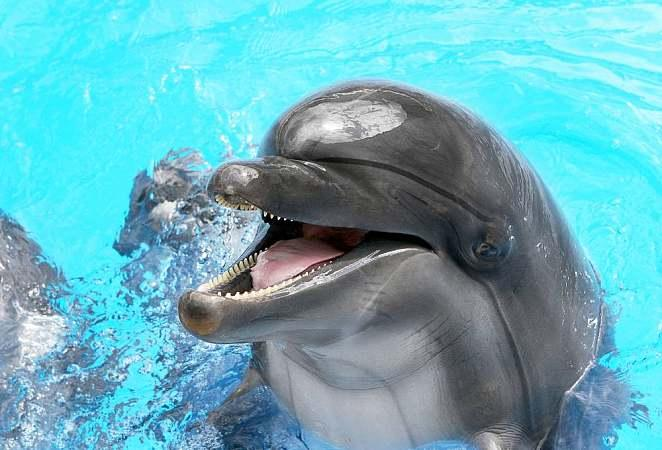fish: (174, 72, 627, 450)
